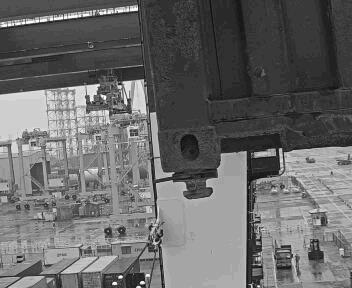twist_lock_1: (172, 166, 231, 204)
